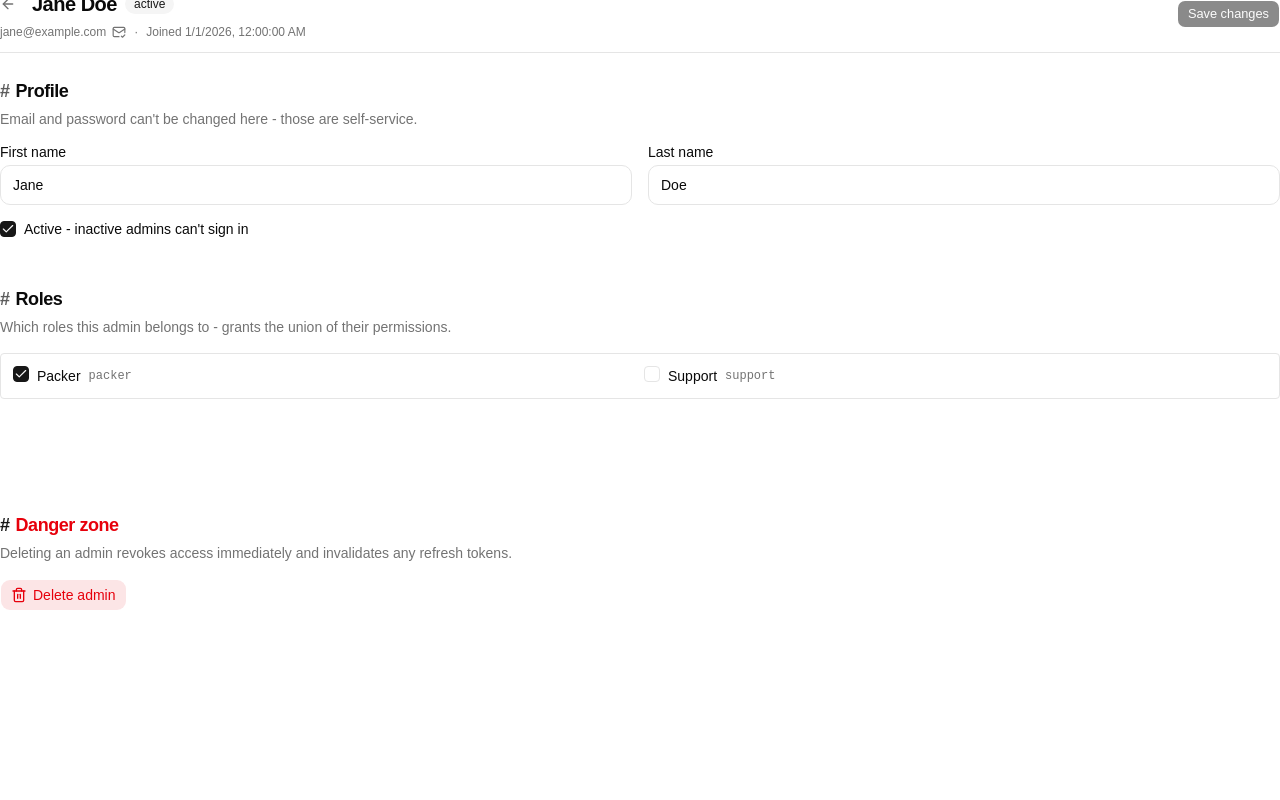
AdminDetail delete › keeps the dialog open and shows a refused delete
Step 1. Click the button "Delete admin" → {"x": 63, "y": 595}, box [0,579,126,611]
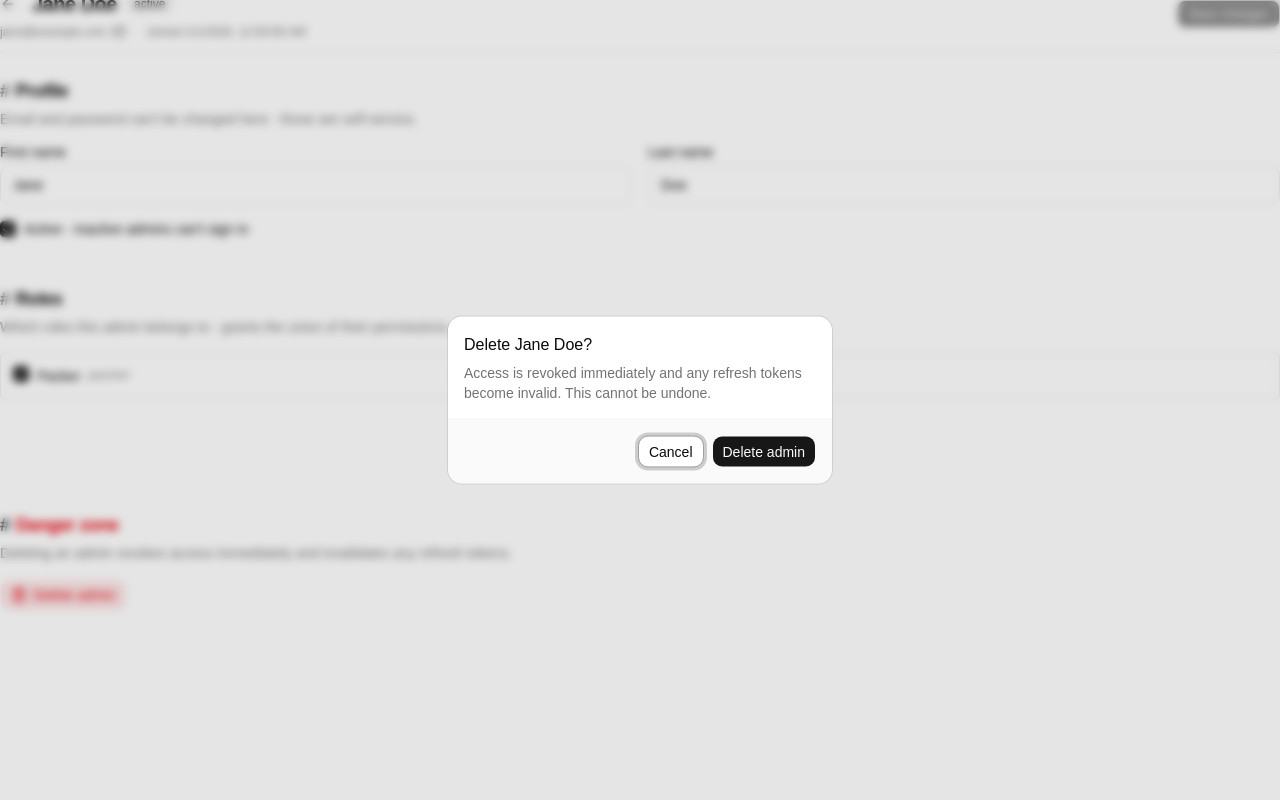
Step 2. Click the button "Delete admin" → {"x": 764, "y": 452}, box [712,436,816,468]
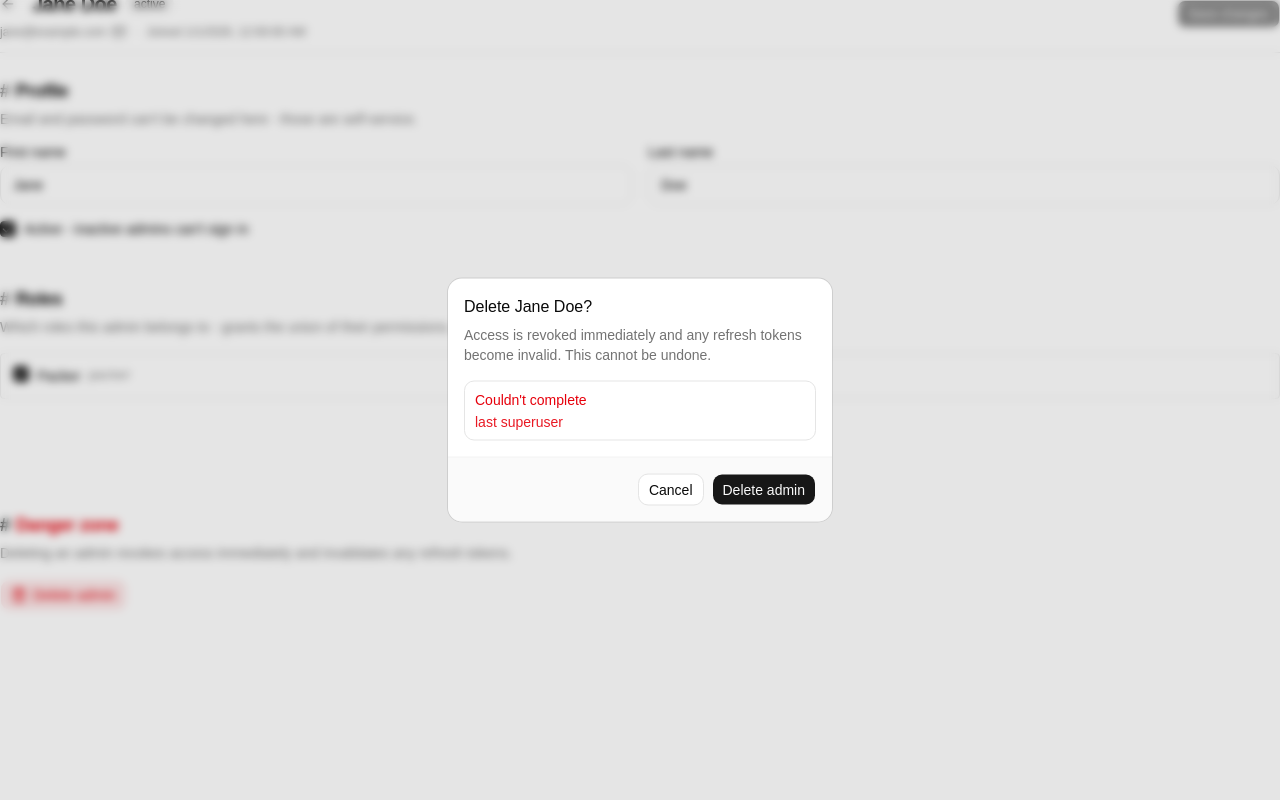
Check: the text "last superuser" is shown, box [475,414,563,430]
